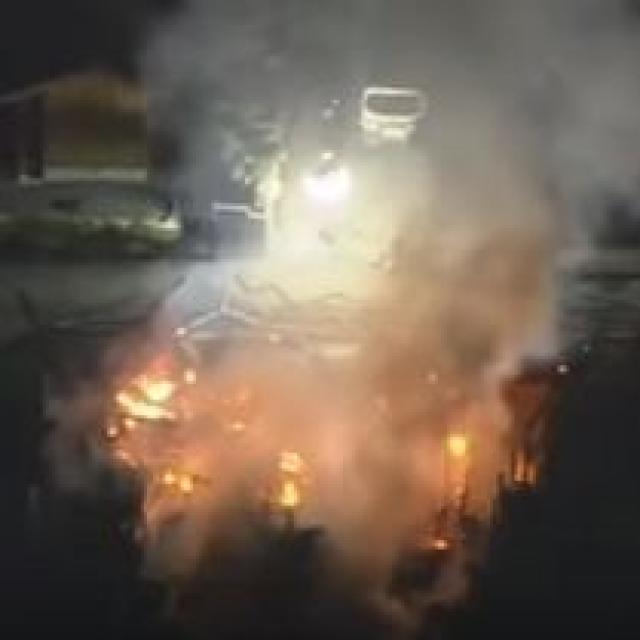Smoke: (189, 11, 640, 382)
